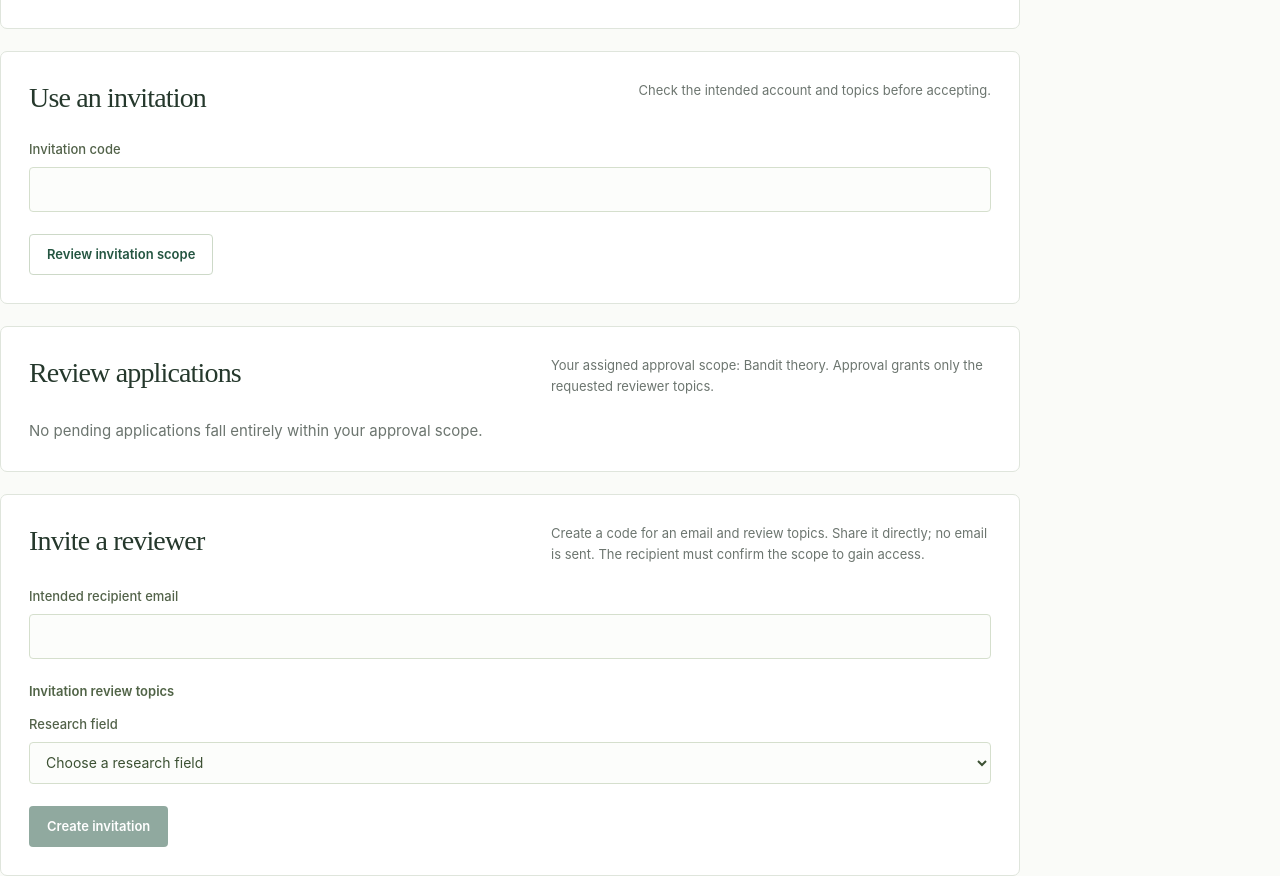
Reviewer topic selection and researcher search › limits invitation field choices to the senior reviewer's assigned topics
(page scrolled)
Select "Artificial Intelligence" in the dropdown named "Research field for Invitation review topics" at (510, 763), box [29,742,991,784]
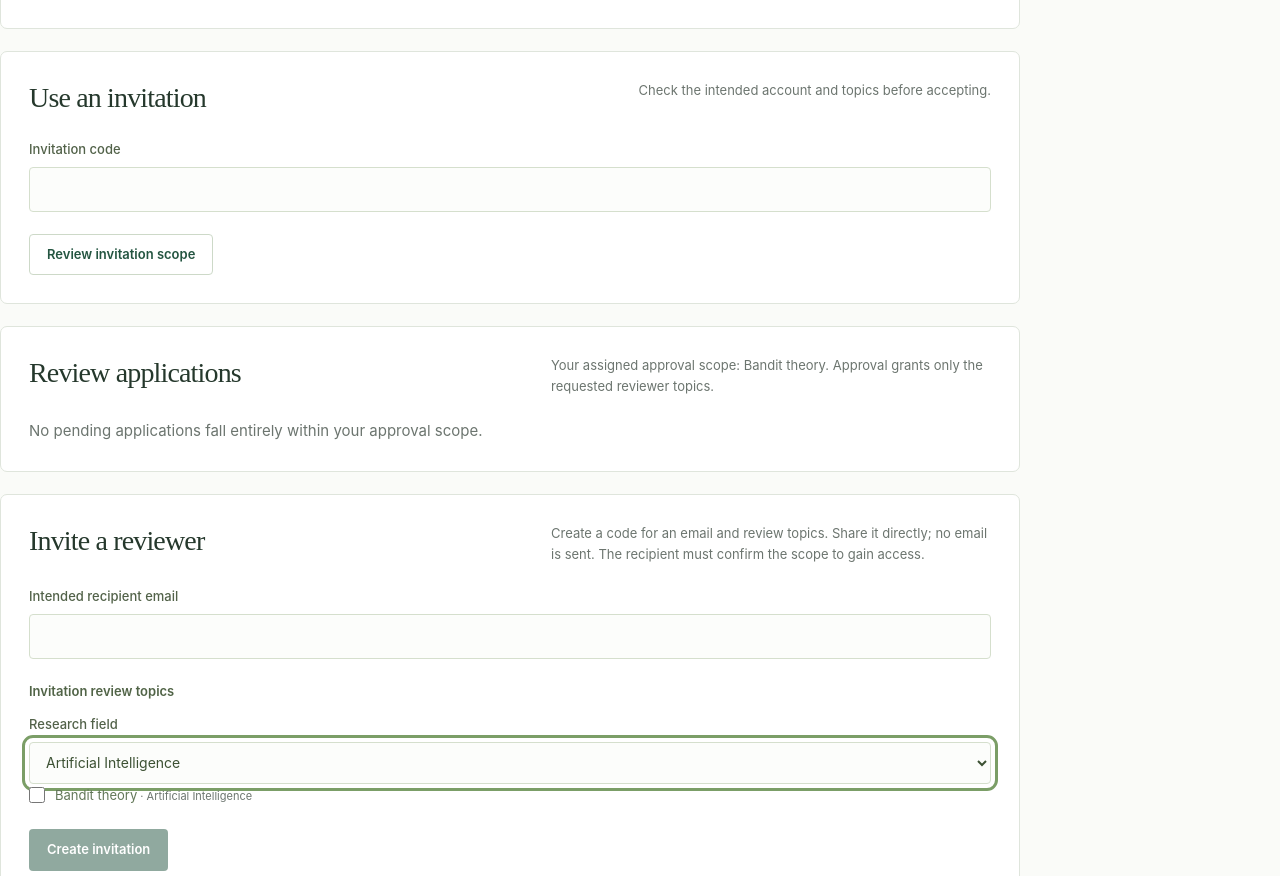
Result: the number of checkboxes is 1 at [29,787,45,803]
